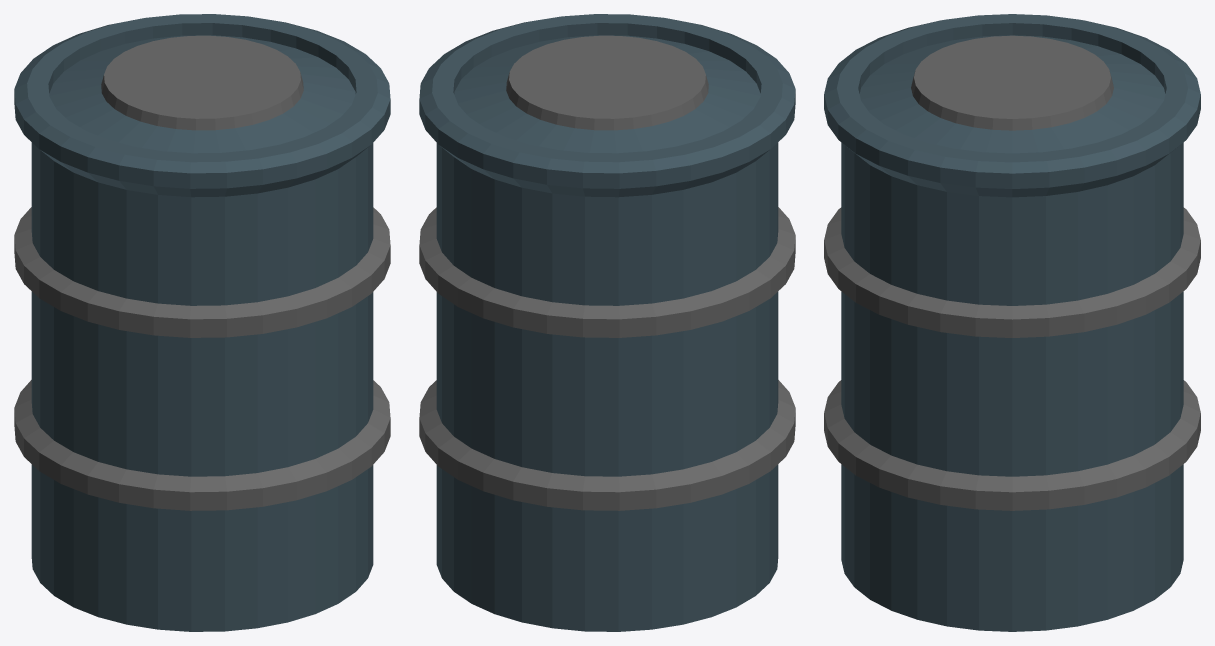
File: Barrel4.fbx
3 renders of one model, left to right at view 1: azimuth 30°, elevation 25°; view 2: azimuth 150°, elevation 25°; view 3: azimuth 270°, elevation 25°, orthographic.
Visible parts, largest first — view 1: Cylinder; view 2: Cylinder; view 3: Cylinder.
Boxes of the visible parts, x1,y1,x2,y2 form: Cylinder: [14, 14, 390, 631]; Cylinder: [419, 14, 795, 631]; Cylinder: [824, 14, 1200, 631].
Size of the model in its own units: 110 by 155 by 110.
